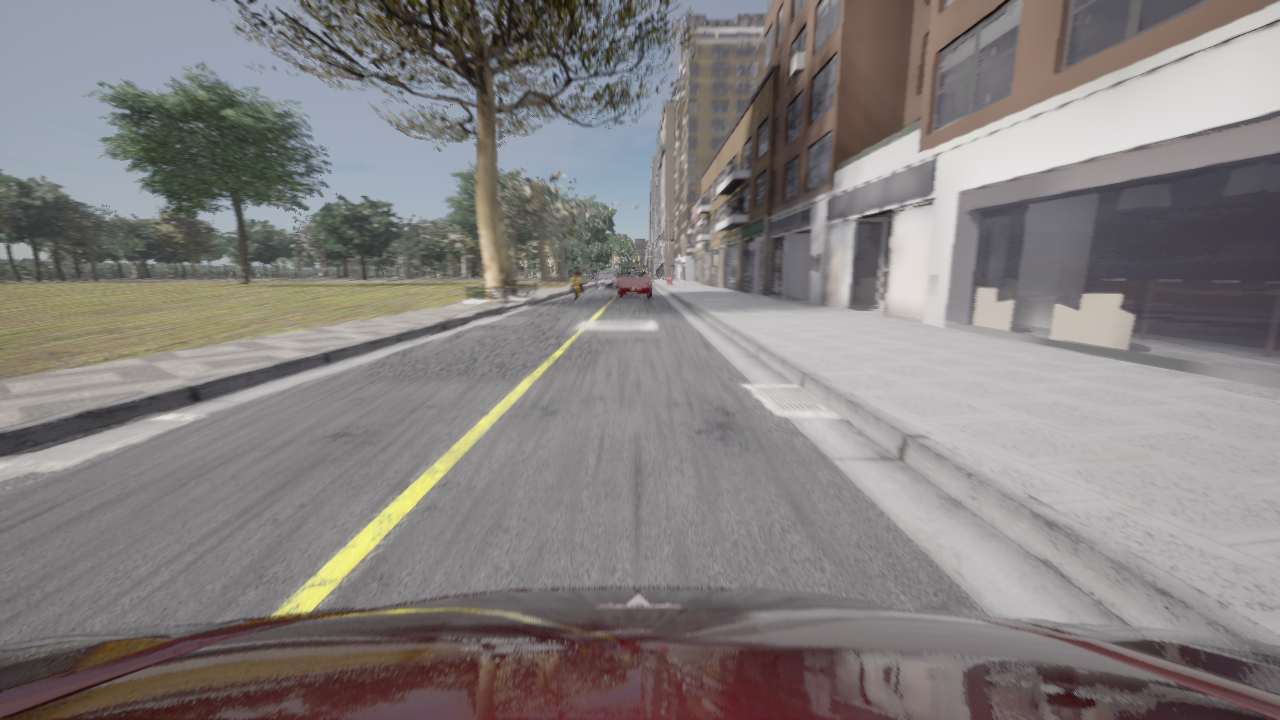cyclist: (0, 588, 1279, 719), (619, 267, 654, 298), (566, 275, 585, 300), (596, 270, 619, 288)
